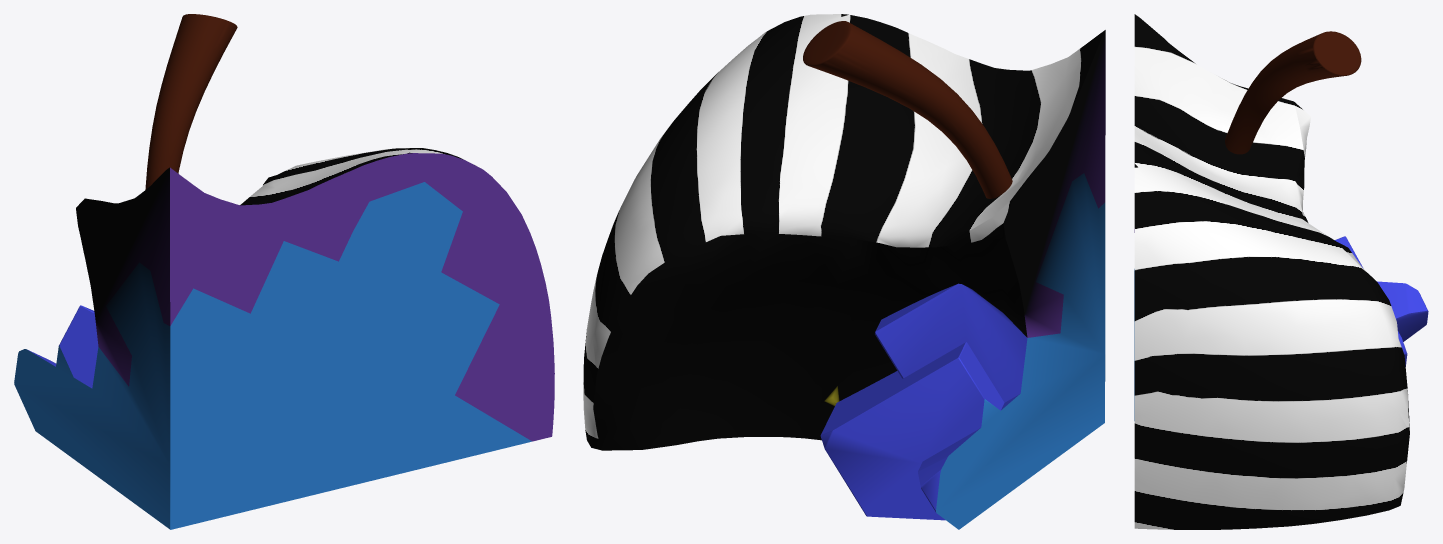
File: SM_Apple_Front_LT.fbx
3 renders of one model, left to right at view 1: azimuth 30°, elevation 25°; view 2: azimuth 150°, elevation 25°; view 3: azimuth 270°, elevation 25°, orthographic. The views are drawn at different scales.
Visible parts, largest first — view 1: 立方体.0001; view 2: 立方体.0001; view 3: 立方体.0001.
Boxes of the visible parts, x1=… form: 立方体.0001: x1=14, y1=14, x2=554, y2=529; 立方体.0001: x1=583, y1=14, x2=1105, y2=529; 立方体.0001: x1=1134, y1=14, x2=1428, y2=529.
Bounding box in the file's own units: 98.77 × 98.98 × 68.96.
